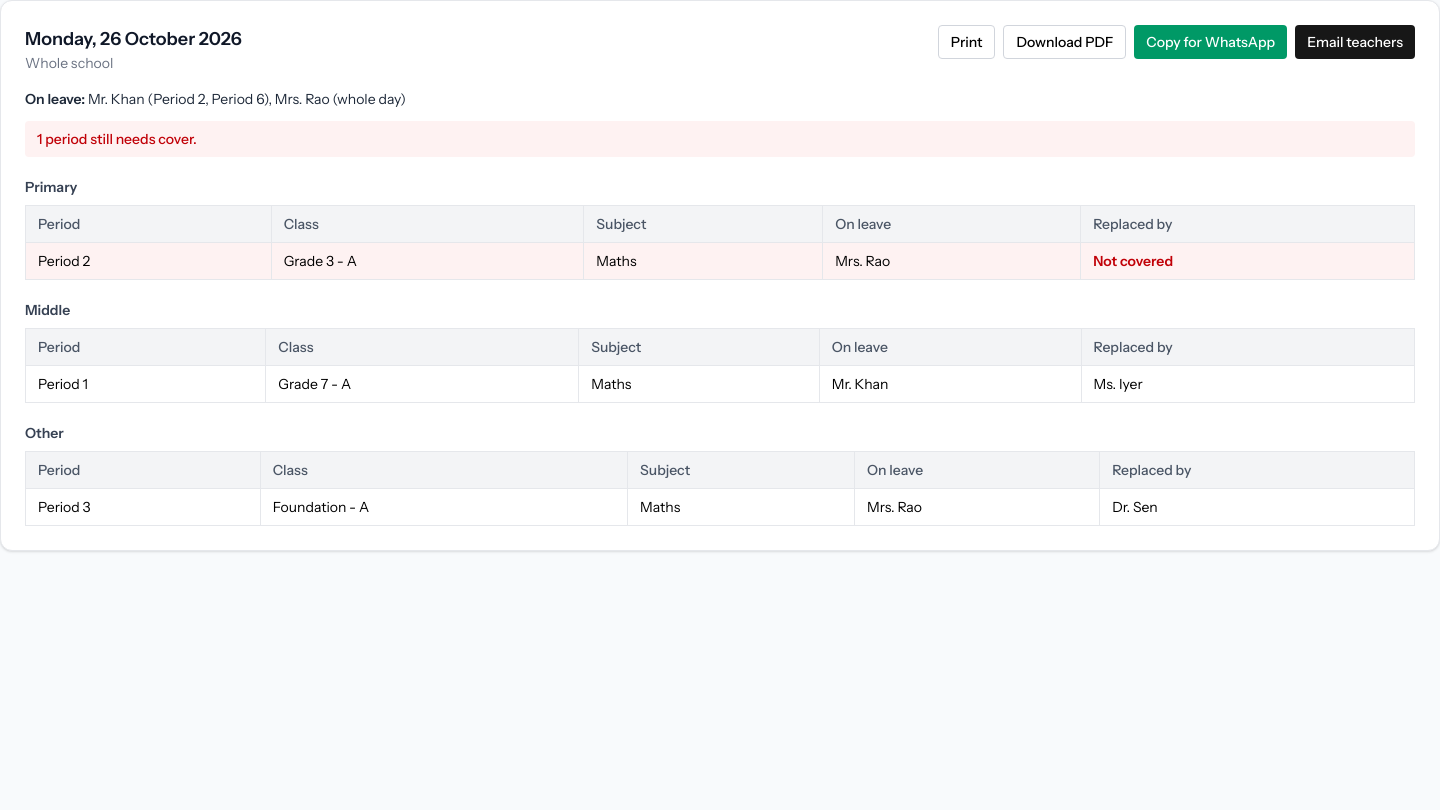
Test: the summary on screen › says so when the print window is blocked
Click the button "Print". click: (967, 42)
box: [938,25,995,59]
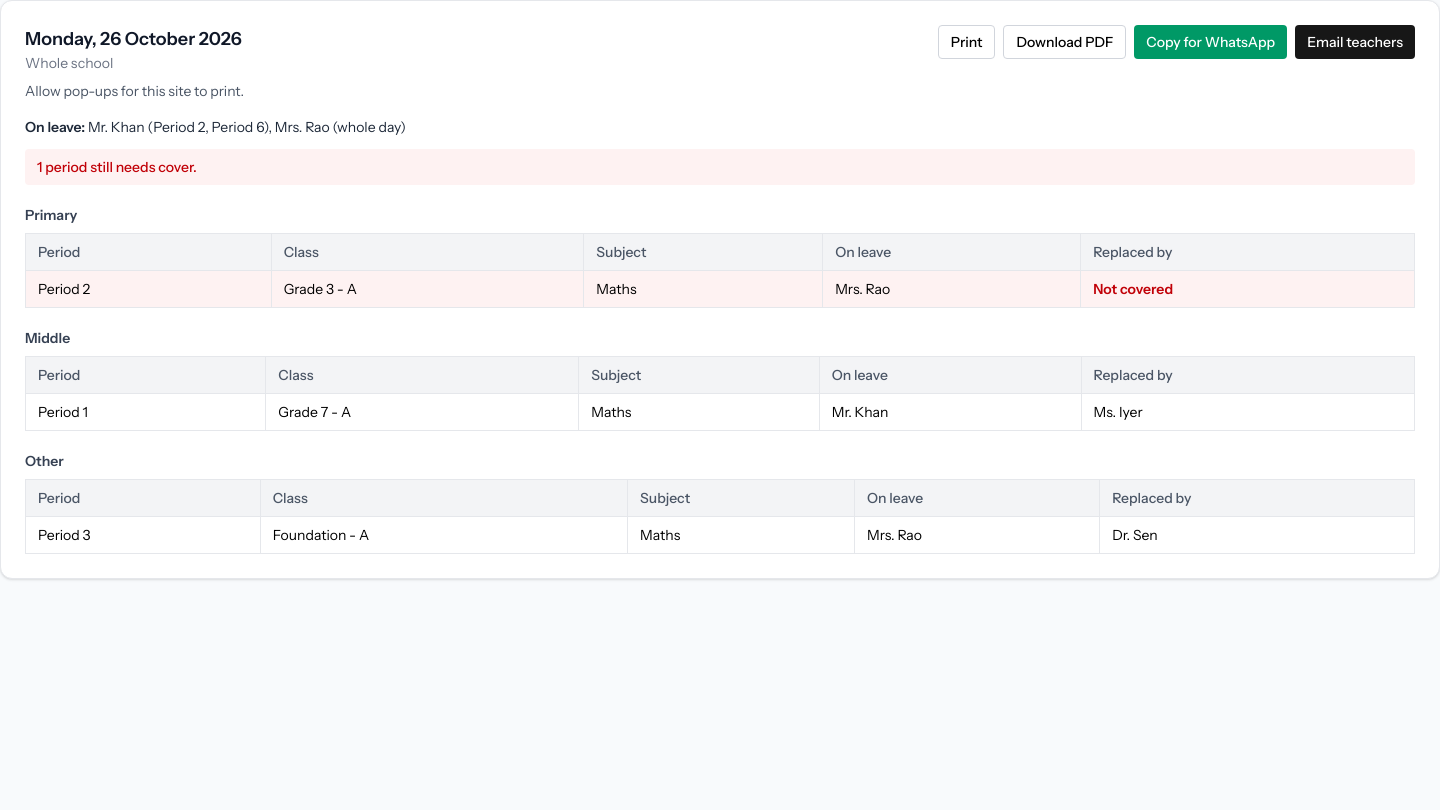
expect the message shows "Allow pop-ups": met, box [25,82,244,100]
